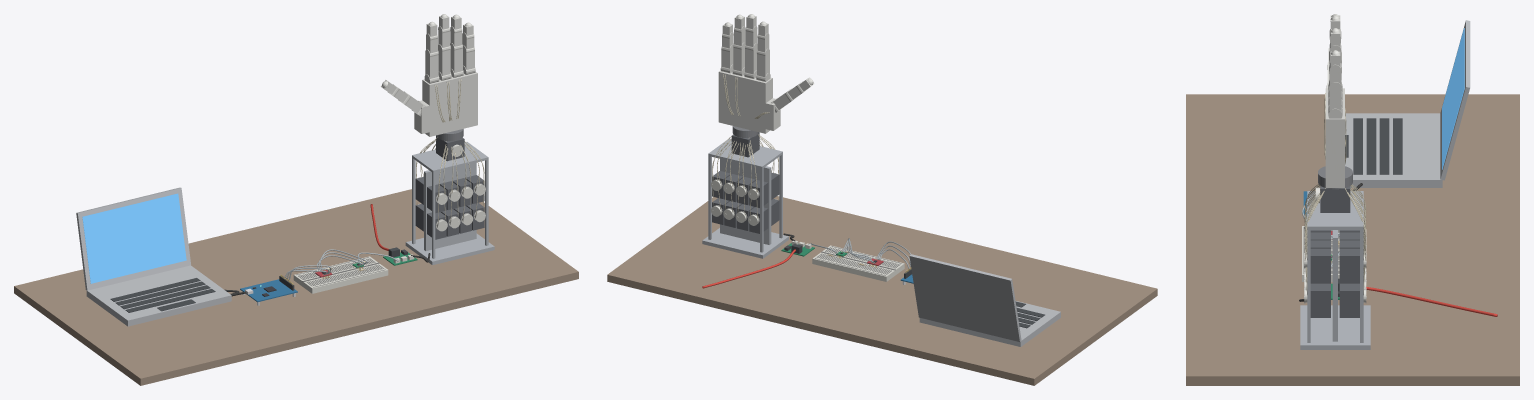
The model's file is desk.glb.
3 renders of one model, left to right at view 1: azimuth 30°, elevation 25°; view 2: azimuth 150°, elevation 25°; view 3: azimuth 270°, elevation 25°, orthographic. The views are drawn at different scales.
Parts seen in each view (by area): view 1: DESK, PC_panel, ST_tower, ST_pc, HAND_palm, PC_lid, PC_keys, BREAD, TENDONS, BREAD_holes, ST_m7c; view 2: DESK, PC_lid, ST_tower, HAND_palm, BREAD, ST_pc, TENDONS, BREAD_holes, SERVO_1; view 3: DESK, ST_tower, ST_pc, PC_keys, HAND_palm, PC_panel, TENDONS, PC_lid, SERVO_1, SERVO_4, SERVO_6, SERVO_11 (+4 smaller).
Part boxes in pixels (bbox=[...]): DESK: bbox=[14, 189, 578, 385]; PC_panel: bbox=[82, 193, 186, 283]; ST_tower: bbox=[405, 142, 494, 265]; ST_pc: bbox=[86, 265, 231, 326]; HAND_palm: bbox=[414, 72, 477, 136]; PC_lid: bbox=[76, 187, 190, 290]; PC_keys: bbox=[110, 278, 215, 312]; BREAD: bbox=[293, 256, 388, 293]; TENDONS: bbox=[416, 79, 484, 223]; BREAD_holes: bbox=[296, 257, 385, 287]; ST_m7c: bbox=[240, 279, 297, 302]; DESK: bbox=[607, 196, 1157, 385]; PC_lid: bbox=[909, 254, 1021, 341]; ST_tower: bbox=[702, 138, 788, 258]; HAND_palm: bbox=[718, 70, 780, 133]; BREAD: bbox=[812, 245, 904, 281]; ST_pc: bbox=[919, 301, 1060, 346]; TENDONS: bbox=[712, 74, 778, 218]; BREAD_holes: bbox=[815, 246, 901, 275]; SERVO_1: bbox=[731, 132, 759, 157]; DESK: bbox=[1186, 94, 1519, 385]; ST_tower: bbox=[1300, 191, 1370, 349]; ST_pc: bbox=[1345, 113, 1442, 187]; PC_keys: bbox=[1345, 118, 1402, 174]; HAND_palm: bbox=[1325, 88, 1344, 187]; PC_panel: bbox=[1442, 28, 1464, 169]; TENDONS: bbox=[1304, 93, 1365, 294]; PC_lid: bbox=[1440, 20, 1470, 180]; SERVO_1: bbox=[1320, 186, 1350, 212]; SERVO_4: bbox=[1310, 283, 1330, 317]; SERVO_6: bbox=[1310, 248, 1330, 282]; SERVO_11: bbox=[1339, 283, 1359, 317].
Size of the model in its own units: 7.6 by 4.02 by 3.8.
